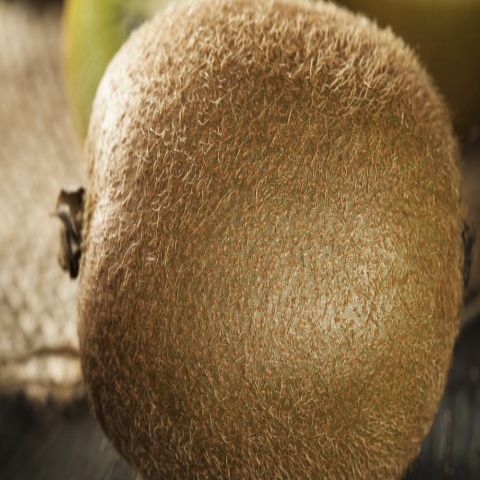kiwi: (35, 2, 478, 480)
